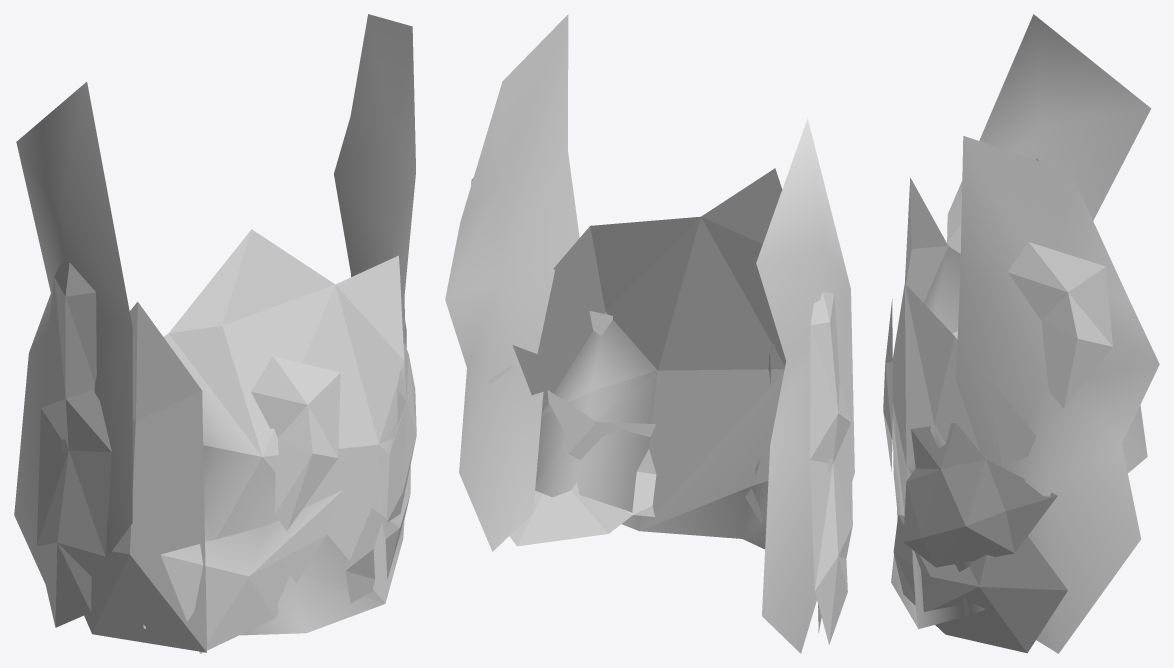
The model's file is SM_Env_Ivy_Pillar_Flowers_03.glb.
3 renders of one model, left to right at view 1: azimuth 30°, elevation 25°; view 2: azimuth 150°, elevation 25°; view 3: azimuth 270°, elevation 25°, orthographic. The views are drawn at different scales.
Visible parts, largest first — view 1: SM_Env_Ivy_Pillar_Flowers_03; view 2: SM_Env_Ivy_Pillar_Flowers_03; view 3: SM_Env_Ivy_Pillar_Flowers_03.
Part boxes in pixels (x1,y1,x2,y2): SM_Env_Ivy_Pillar_Flowers_03: (14, 14, 416, 653); SM_Env_Ivy_Pillar_Flowers_03: (445, 14, 854, 653); SM_Env_Ivy_Pillar_Flowers_03: (883, 14, 1159, 653).
Size of the model in its own units: 1.63 by 2.34 by 1.11.
1 material, 1 textured.
